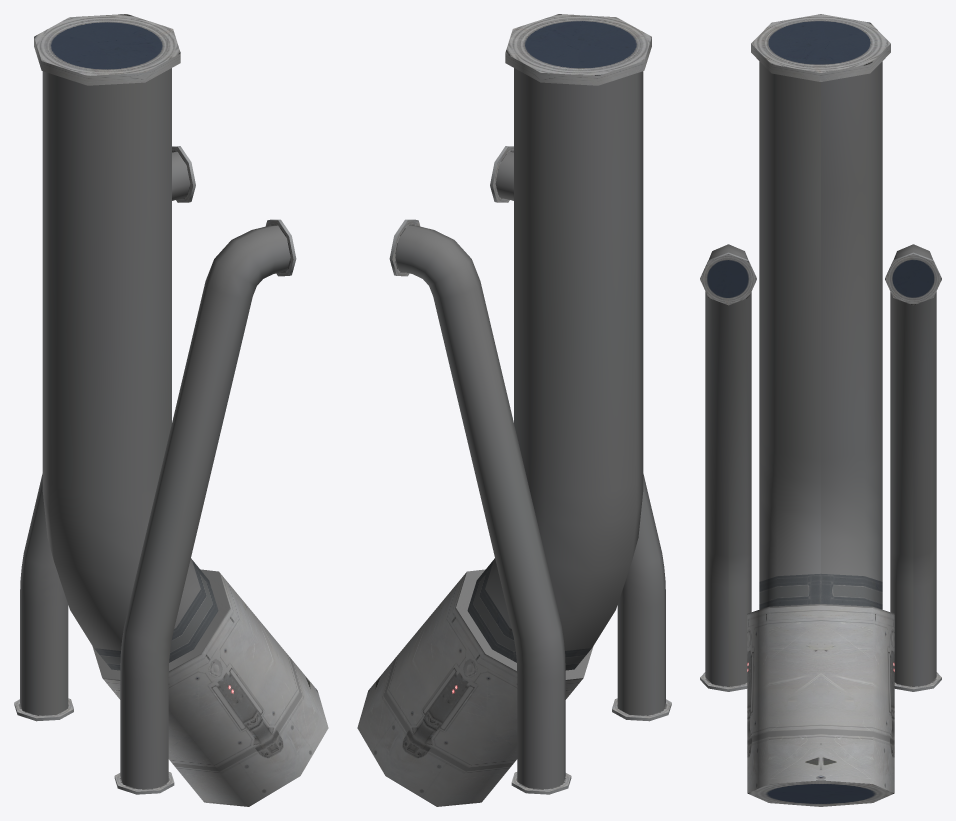
The model's file is SM_PillarsDeco3.fbx.
The picture shows the model from 3 angles, left to right: view 1: azimuth 30°, elevation 25°; view 2: azimuth 150°, elevation 25°; view 3: azimuth 270°, elevation 25°; orthographic projection. The views are drawn at different scales.
Parts seen in each view (by area): view 1: SM_PillarsDeco3_LOD0; view 2: SM_PillarsDeco3_LOD0; view 3: SM_PillarsDeco3_LOD0.
Part boxes in pixels (x1=…): SM_PillarsDeco3_LOD0: x1=14, y1=14, x2=328, y2=806; SM_PillarsDeco3_LOD0: x1=357, y1=14, x2=671, y2=806; SM_PillarsDeco3_LOD0: x1=700, y1=14, x2=941, y2=806.
Size of the model in its own units: 95.37 by 78.49 by 258.
3 materials, 3 textured.
